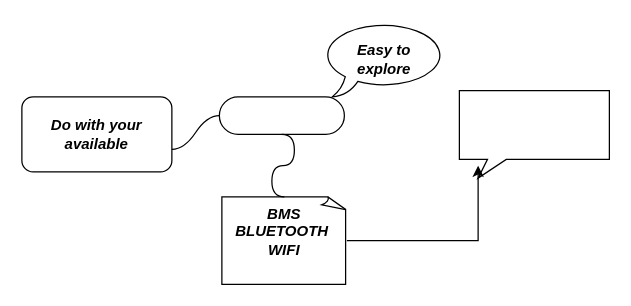
The diagram is 631 pixels wide and 306 high, and some of its shapes have lost their labels. Each missing label, with the centre of its shape:
"Available" belongs at (281,115).
"Bluetooth classic no mesh" belongs at (533,133).
